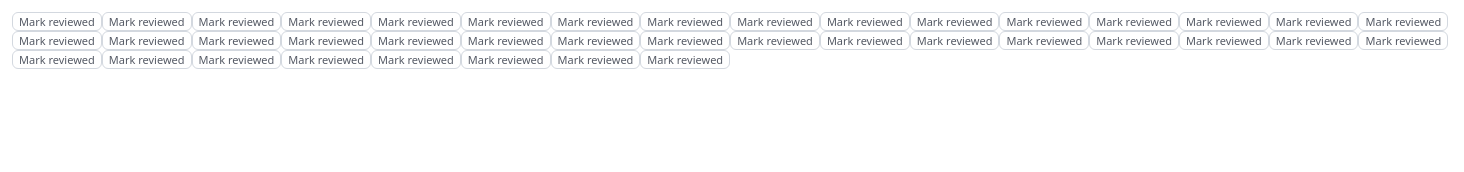
Test case: ReviewMark at table scale › re-renders only the row that was marked, not every row on the table
Click the button with aria-label "Mark row art-7 reviewed" at (685,22), box [640,12,730,31]
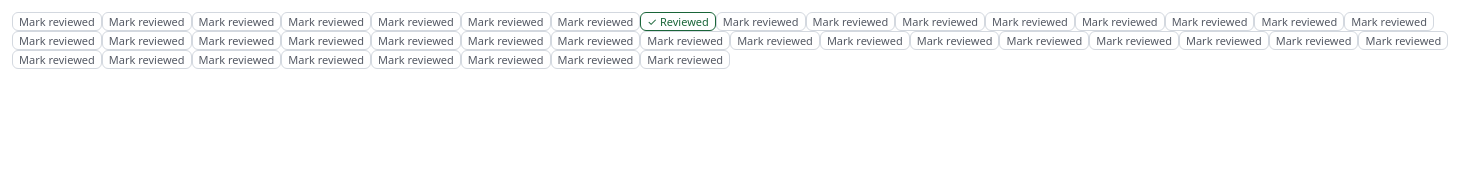
Check: the button with aria-label "withdraw the review of row" is shown, box [640,12,716,31]
